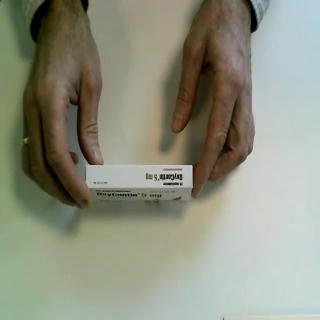oxycontin5mg: (84, 164, 195, 206)
